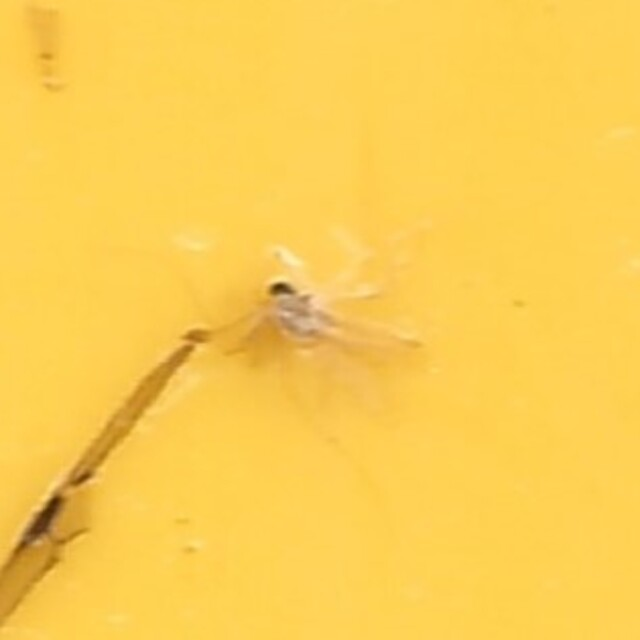Nematocera: (203, 212, 437, 428)
